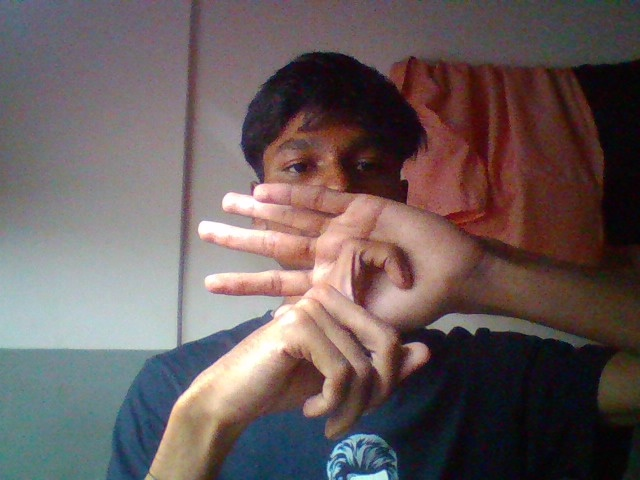R: (141, 163, 466, 480)
